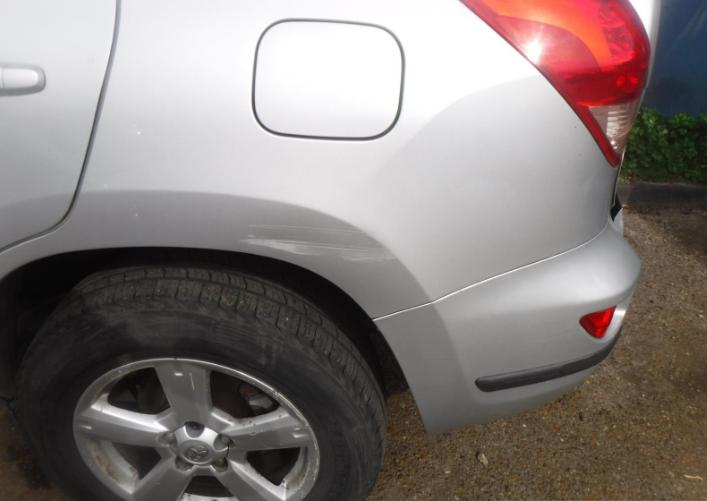Back-bumper: (376, 209, 642, 434)
Back-door: (0, 0, 117, 248)
Back-wheel: (16, 266, 387, 501)
Quarter-panel: (1, 0, 617, 318)
Tail-light: (460, 0, 650, 168)
Trunk: (631, 0, 661, 77)
